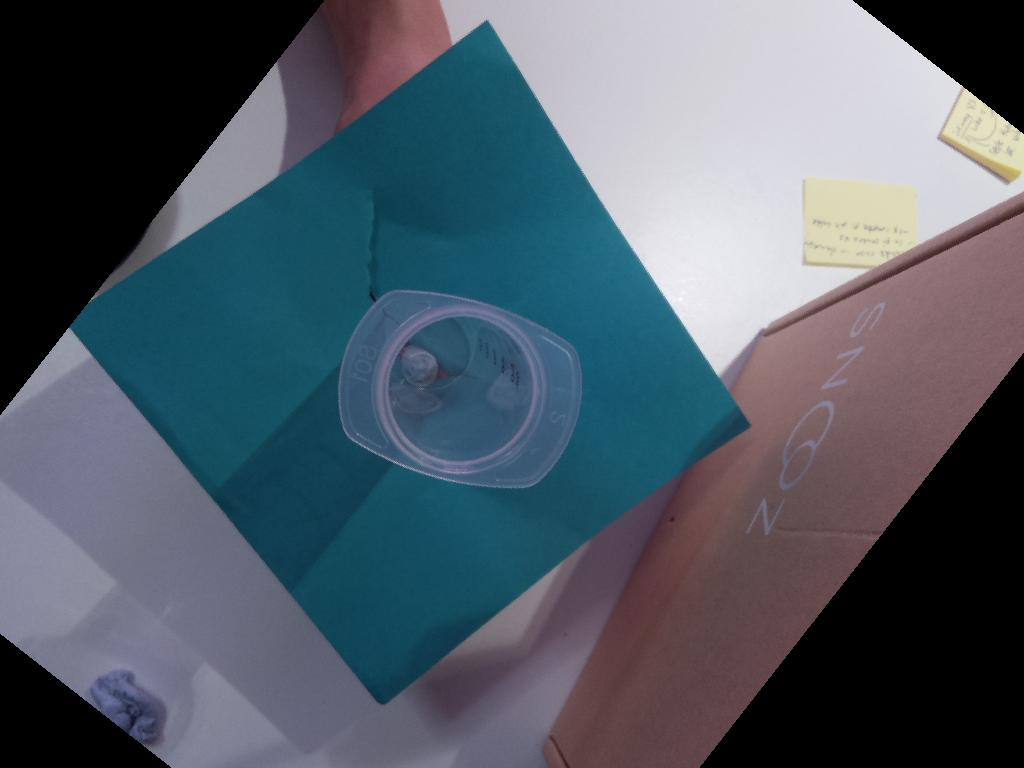clean: (338, 286, 584, 489)
